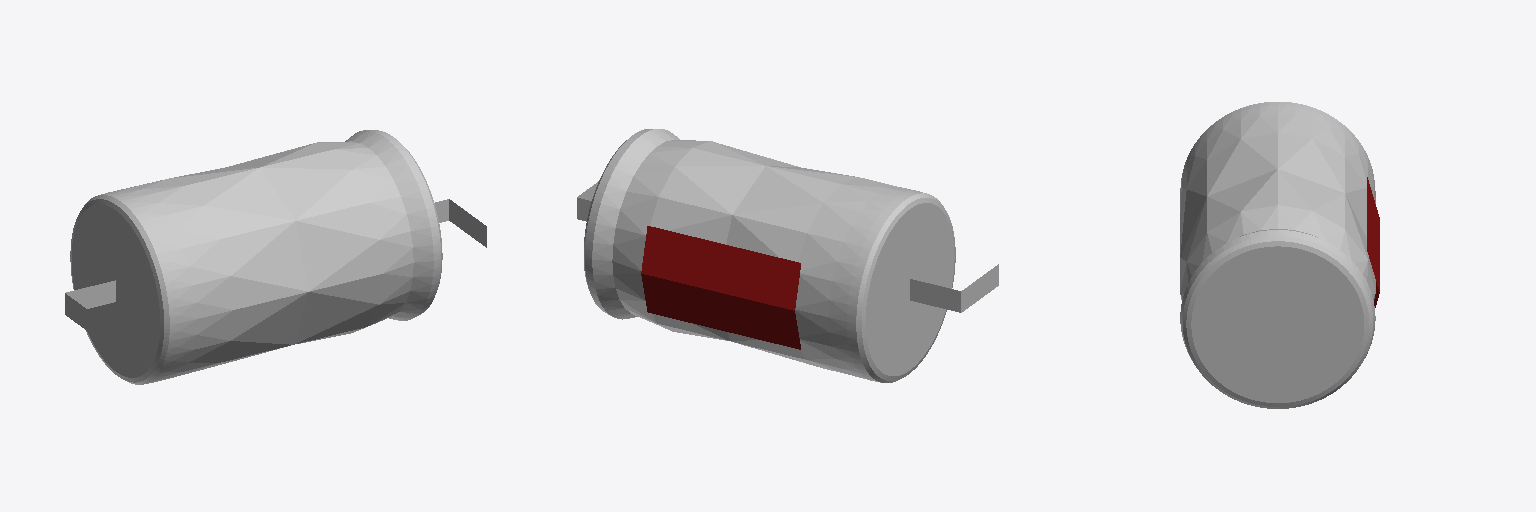
3 renders of one model, left to right at view 1: azimuth 30°, elevation 25°; view 2: azimuth 150°, elevation 25°; view 3: azimuth 270°, elevation 25°, orthographic.
Parts seen in each view (by area): view 1: ShapeIndexedFaceSet.001_ShapeIndexedFaceSet.002, ShapeIndexedFaceSet.002_ShapeIndexedFaceSet.003, ShapeIndexedFaceSet.003_ShapeIndexedFaceSet; view 2: ShapeIndexedFaceSet.001_ShapeIndexedFaceSet.002, ShapeIndexedFaceSet_ShapeIndexedFaceSet.001, ShapeIndexedFaceSet.002_ShapeIndexedFaceSet.003; view 3: ShapeIndexedFaceSet.001_ShapeIndexedFaceSet.002, ShapeIndexedFaceSet.003_ShapeIndexedFaceSet, ShapeIndexedFaceSet_ShapeIndexedFaceSet.001.
Boxes of the visible parts, <box> form: ShapeIndexedFaceSet.001_ShapeIndexedFaceSet.002: <box>70,130,442,384</box>; ShapeIndexedFaceSet.002_ShapeIndexedFaceSet.003: <box>65,280,115,341</box>; ShapeIndexedFaceSet.003_ShapeIndexedFaceSet: <box>435,199,486,247</box>; ShapeIndexedFaceSet.001_ShapeIndexedFaceSet.002: <box>584,129,955,382</box>; ShapeIndexedFaceSet_ShapeIndexedFaceSet.001: <box>641,226,800,349</box>; ShapeIndexedFaceSet.002_ShapeIndexedFaceSet.003: <box>910,264,998,312</box>; ShapeIndexedFaceSet.001_ShapeIndexedFaceSet.002: <box>1180,102,1375,408</box>; ShapeIndexedFaceSet.003_ShapeIndexedFaceSet: <box>1203,339,1277,360</box>; ShapeIndexedFaceSet_ShapeIndexedFaceSet.001: <box>1367,177,1379,307</box>.
Bounding box in the file's own units: 15 × 6.6 × 6.74.